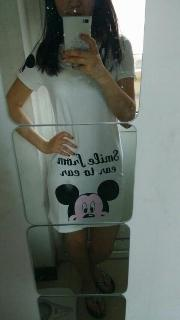short sleeve dress: (16, 33, 137, 233)
